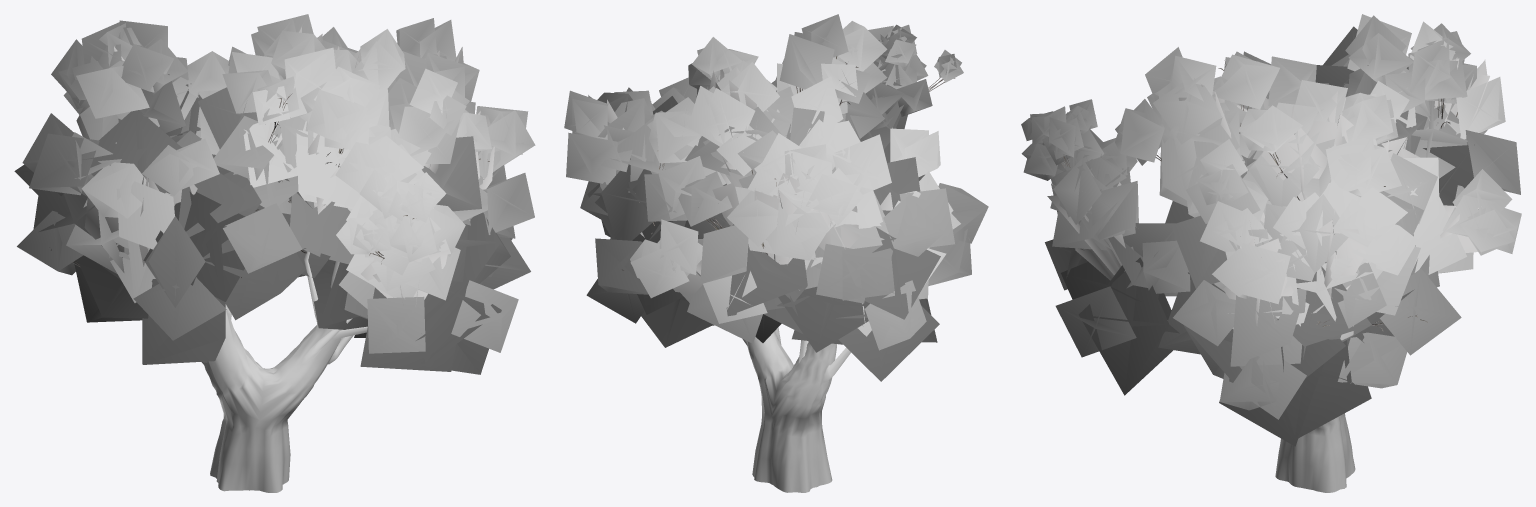
Rendered from Olive_lowp3.fbx.
The picture shows the model from 3 angles, left to right: view 1: azimuth 30°, elevation 25°; view 2: azimuth 150°, elevation 25°; view 3: azimuth 270°, elevation 25°; orthographic projection. The views are drawn at different scales.
Parts seen in each view (by area): view 1: Olive_lowp; view 2: Olive_lowp; view 3: Olive_lowp.
Part boxes in pixels (left/top/right/bottom): Olive_lowp: left=14, top=14, right=535, bottom=492; Olive_lowp: left=564, top=14, right=988, bottom=492; Olive_lowp: left=1021, top=14, right=1521, bottom=492.
Size of the model in its own units: 922 by 881 by 935.
